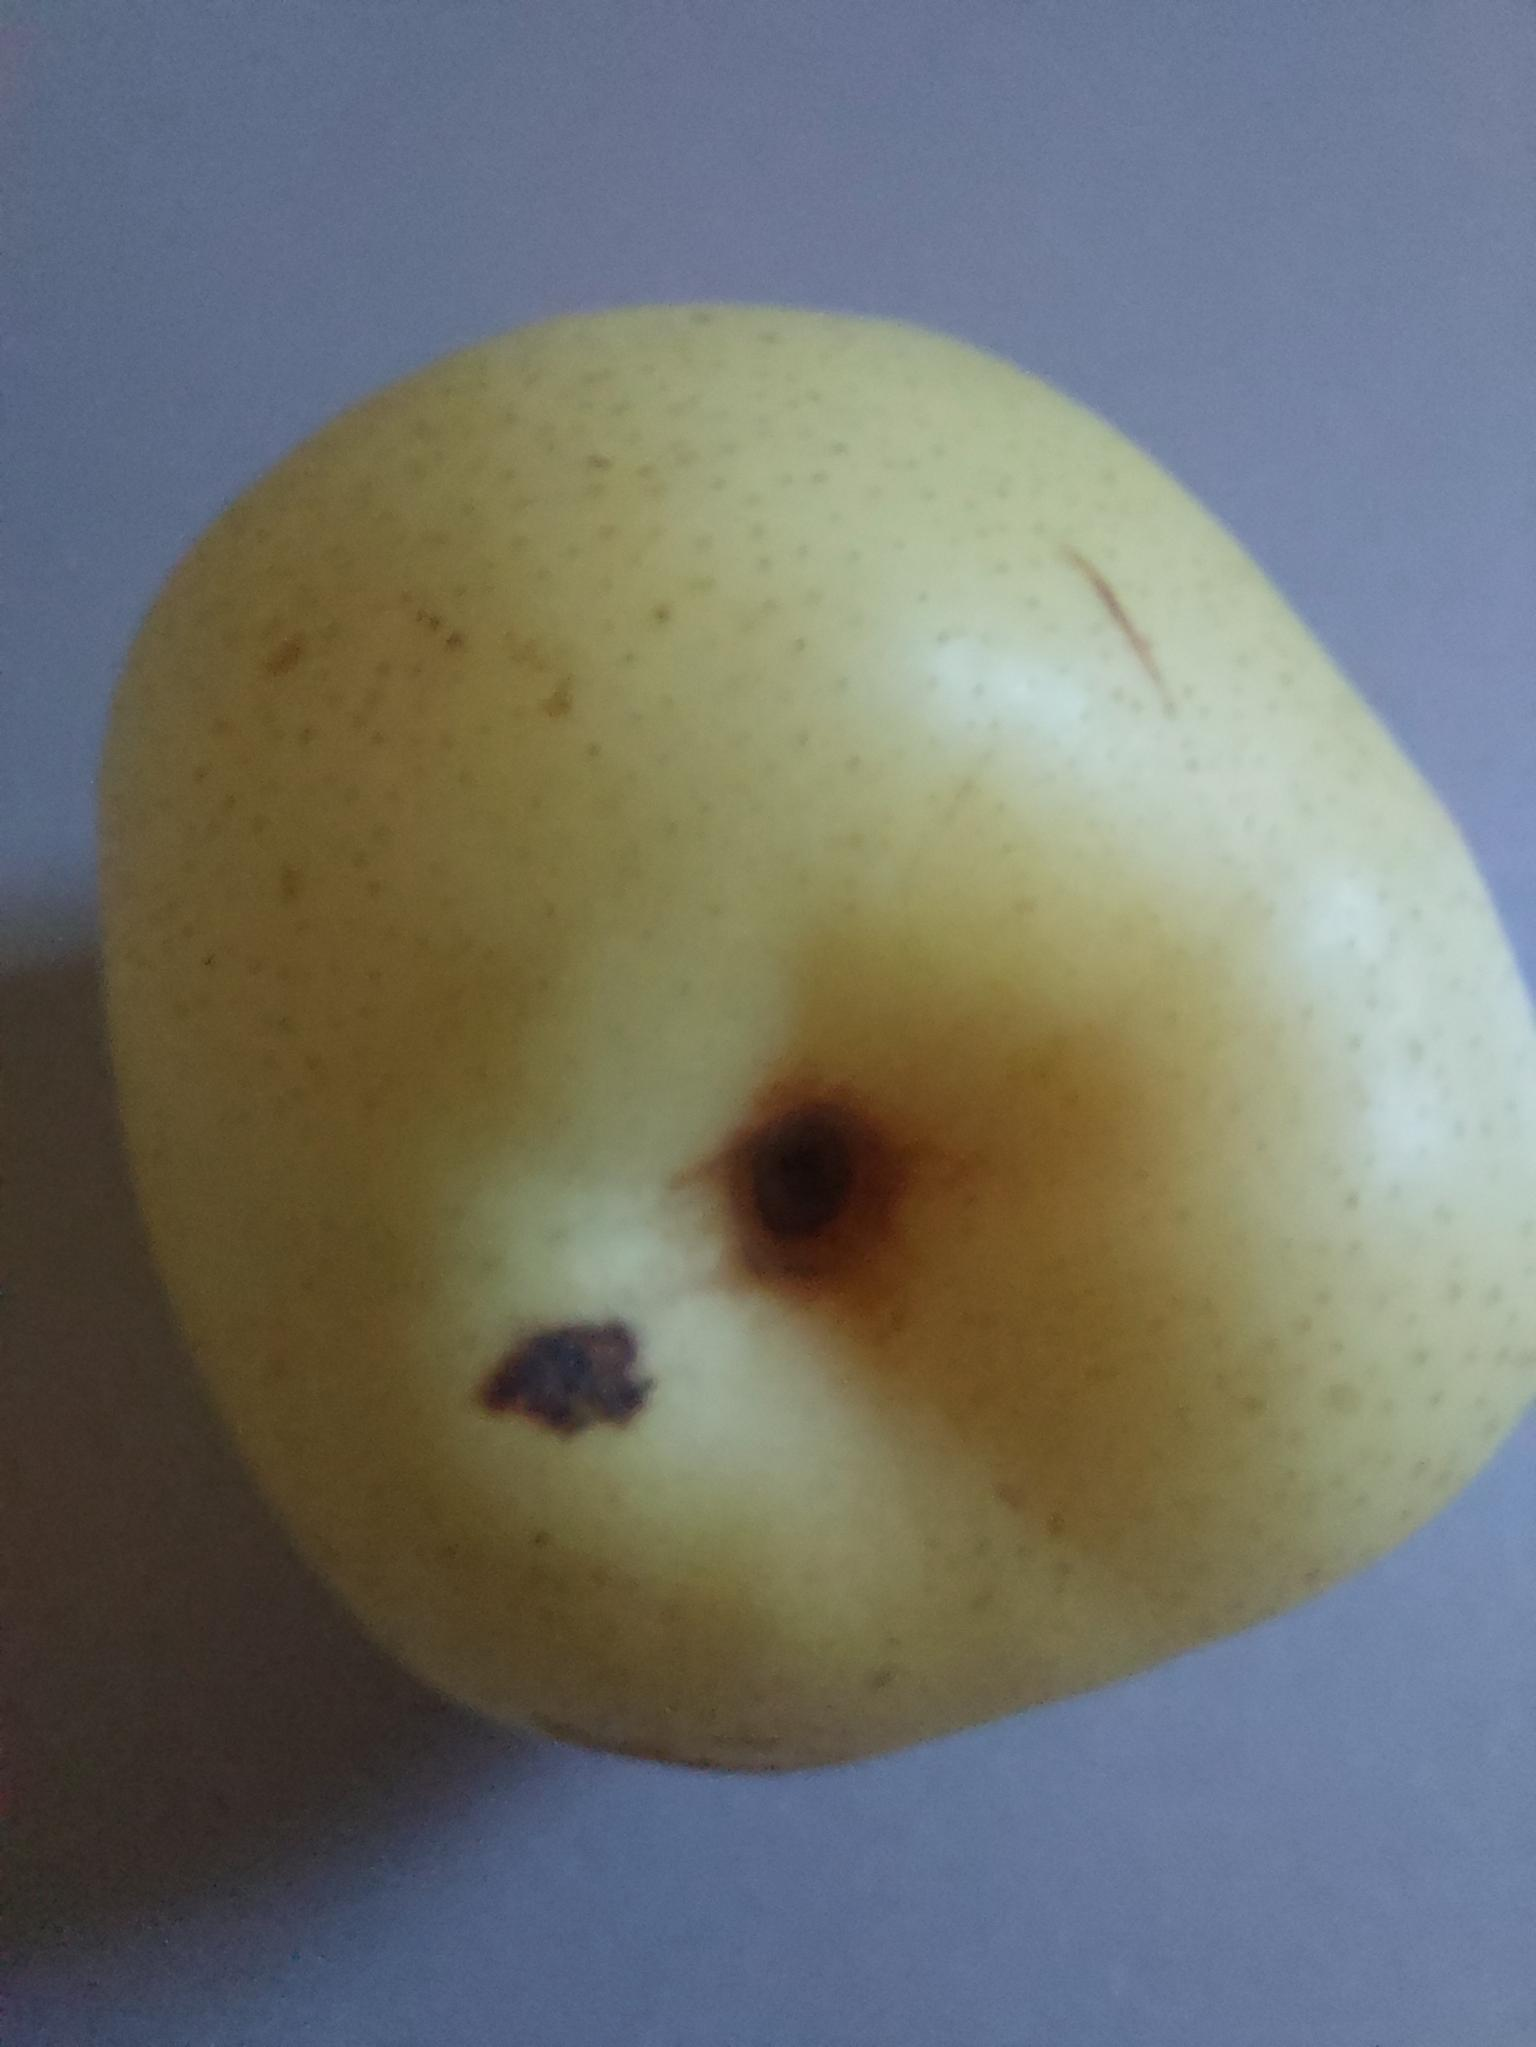Good Pear: (73, 279, 1536, 1813)
